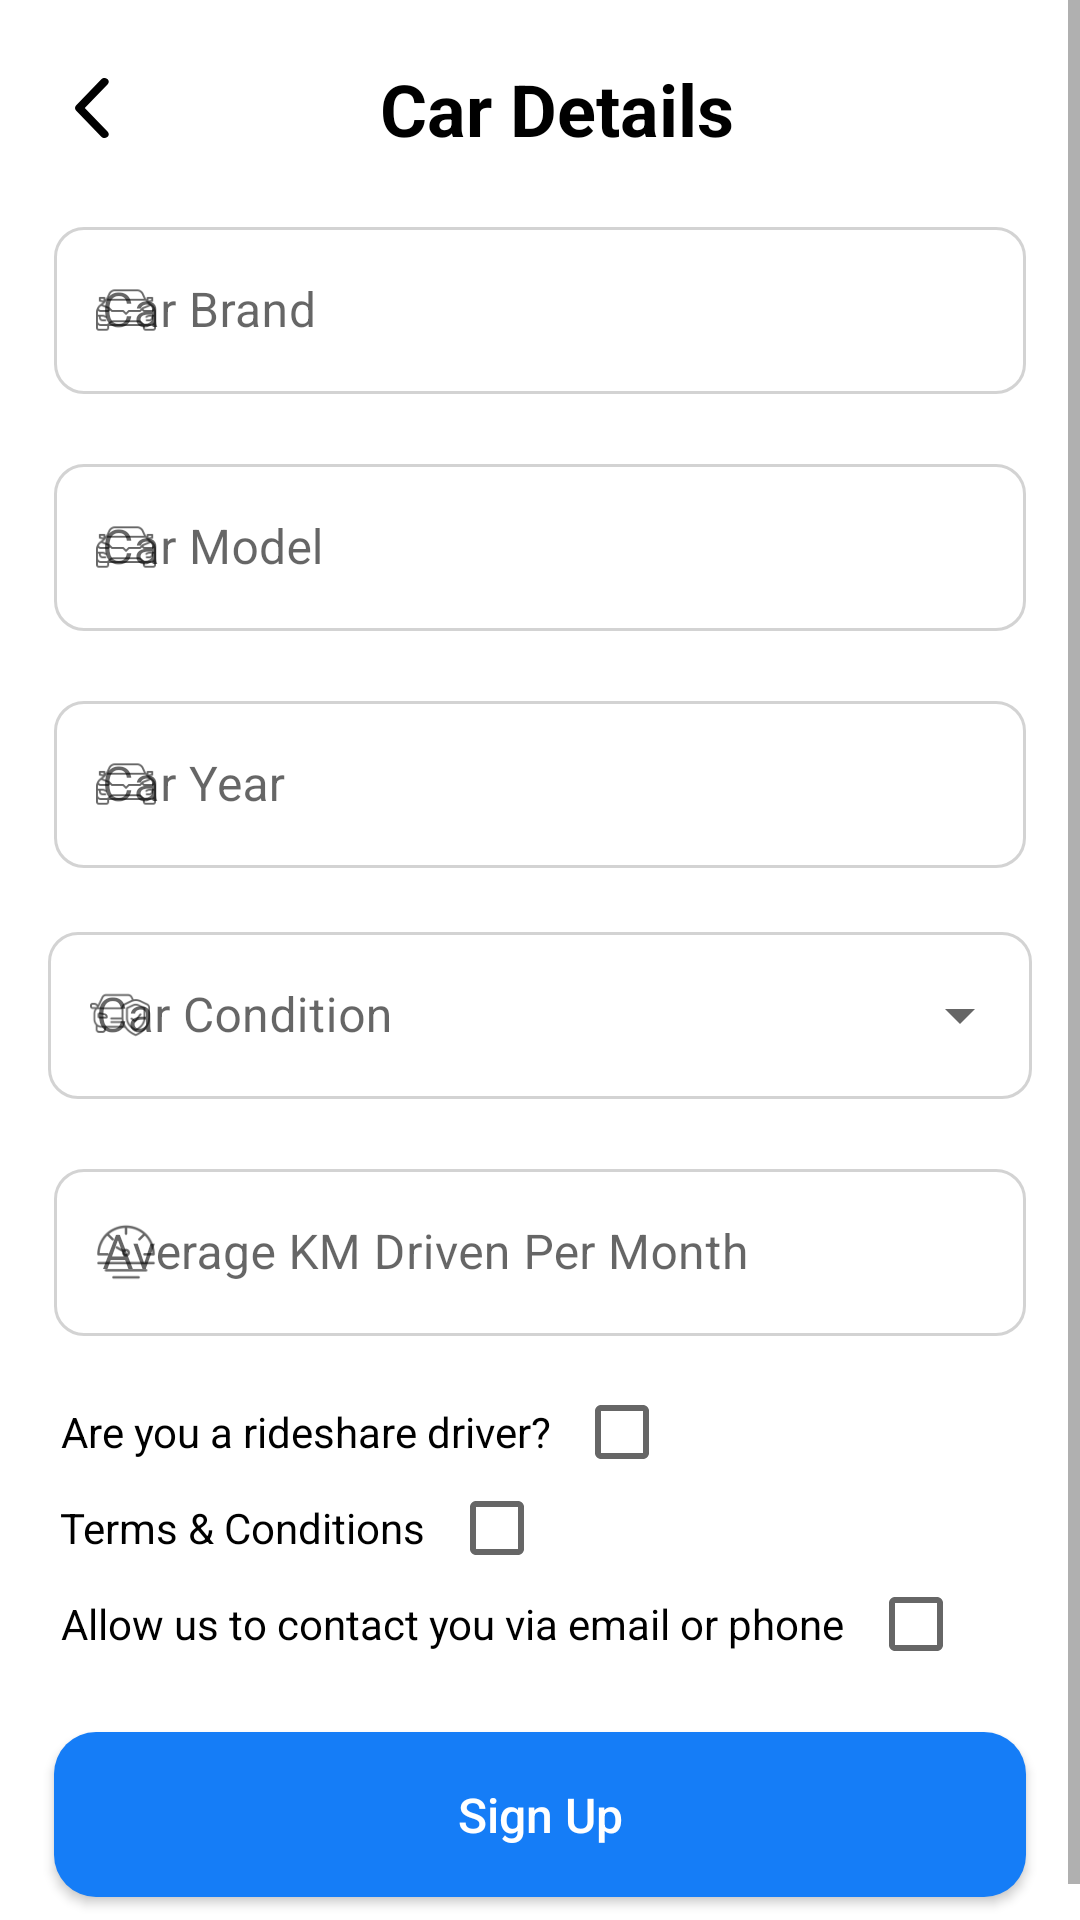

Icon bounding boxes for this 1080w x 1920h phone screenshot, format (left=x1, top=y1, right=x2, bottom=y2):
back: (left=75, top=78, right=109, bottom=138)
